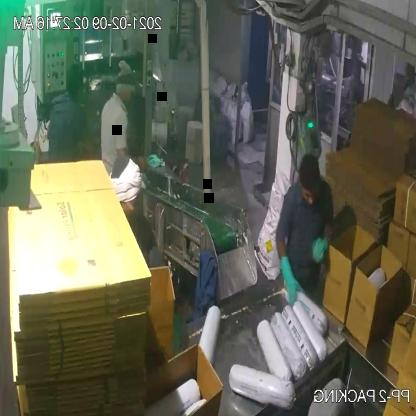glove: (276, 254, 306, 307), (304, 228, 335, 270)
